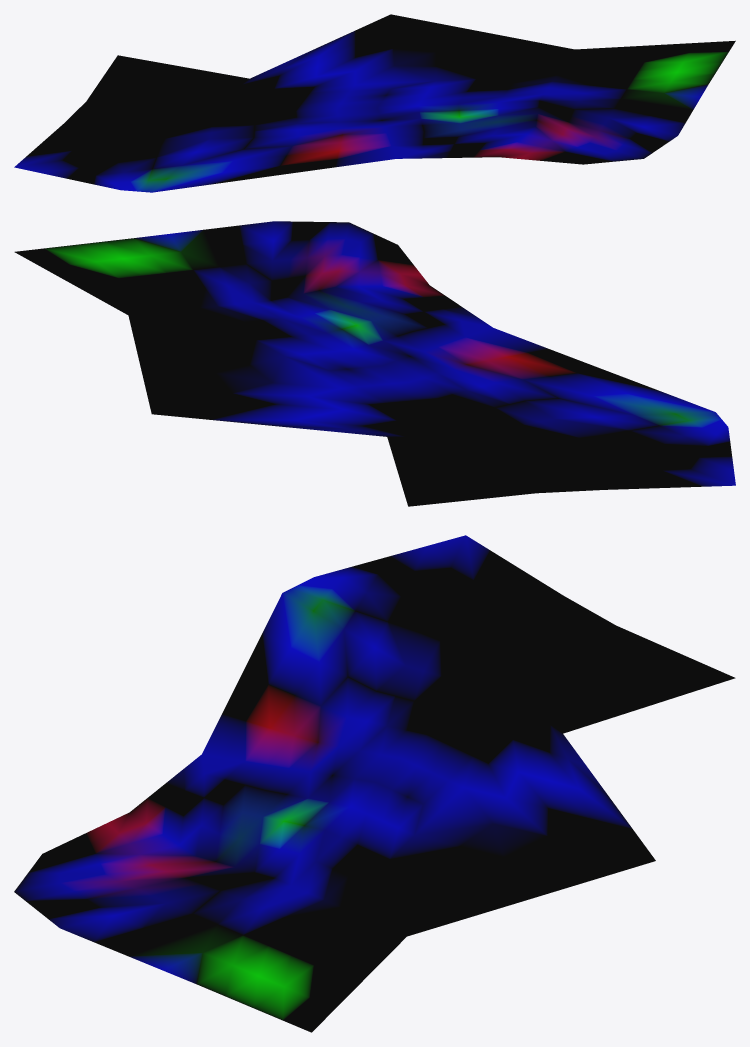
The picture shows the model from 3 angles, top to bottom: view 1: azimuth 30°, elevation 25°; view 2: azimuth 150°, elevation 25°; view 3: azimuth 270°, elevation 25°; orthographic projection. The views are drawn at different scales.
Visible parts, largest first — view 1: Sprite__1_; view 2: Sprite__1_; view 3: Sprite__1_.
Part boxes in pixels (x1,y1,x2,y2): Sprite__1_: [14, 14, 735, 192]; Sprite__1_: [14, 221, 735, 506]; Sprite__1_: [14, 535, 735, 1032].
Bounding box in the file's own units: 4082 × 4.48e-08 × 2504.
